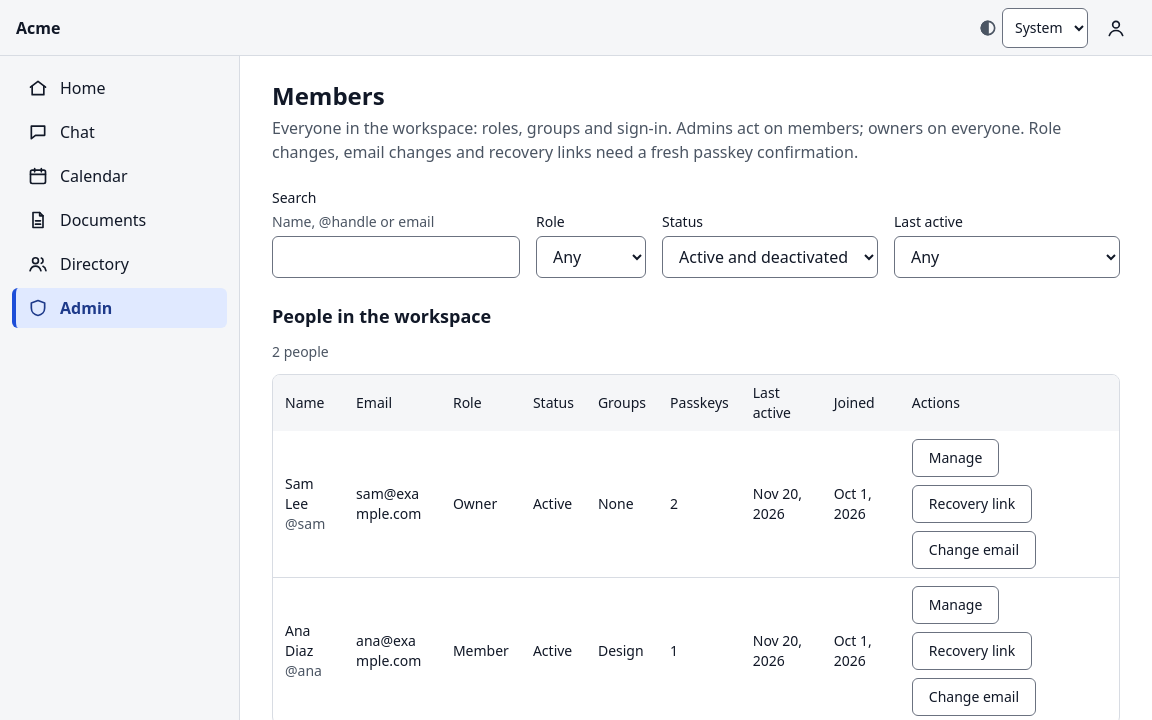
members administration (Identity §4.11; Admin §5) › explains the last-owner refusal
Step 1. Click the button with aria-label "Manage Sam Lee" → [956, 458], box [912,439,999,477]
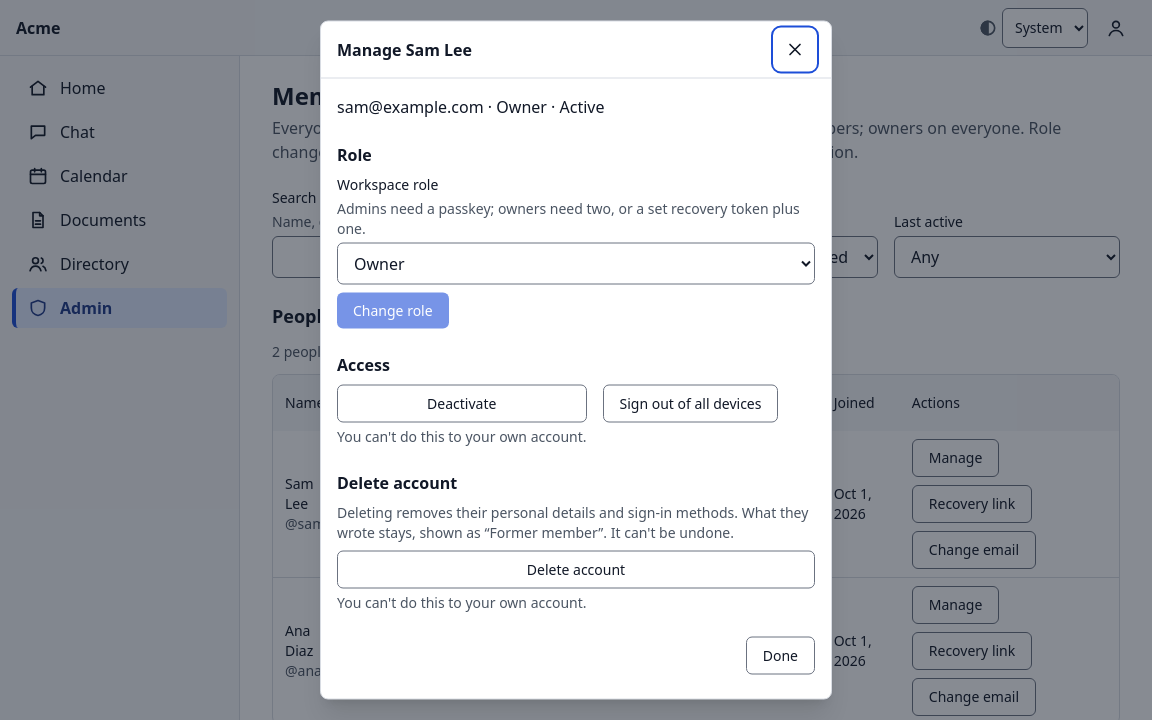
# The engine already knows: the only active owner can't be demoted.
Step 2. Select "Admin" in the dropdown labelled "Workspace role" → [576, 264], box [337,242,815,284]
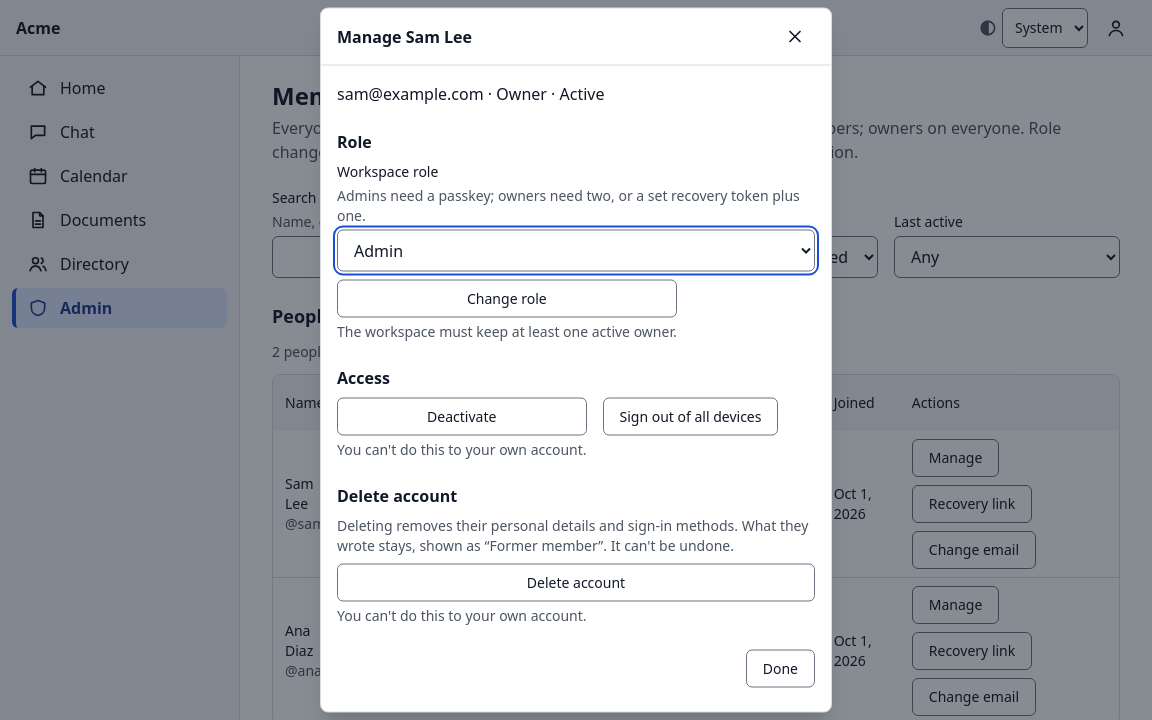
Expected: the text "The workspace must keep at least one active owner." is shown, [337,322,677,342]
